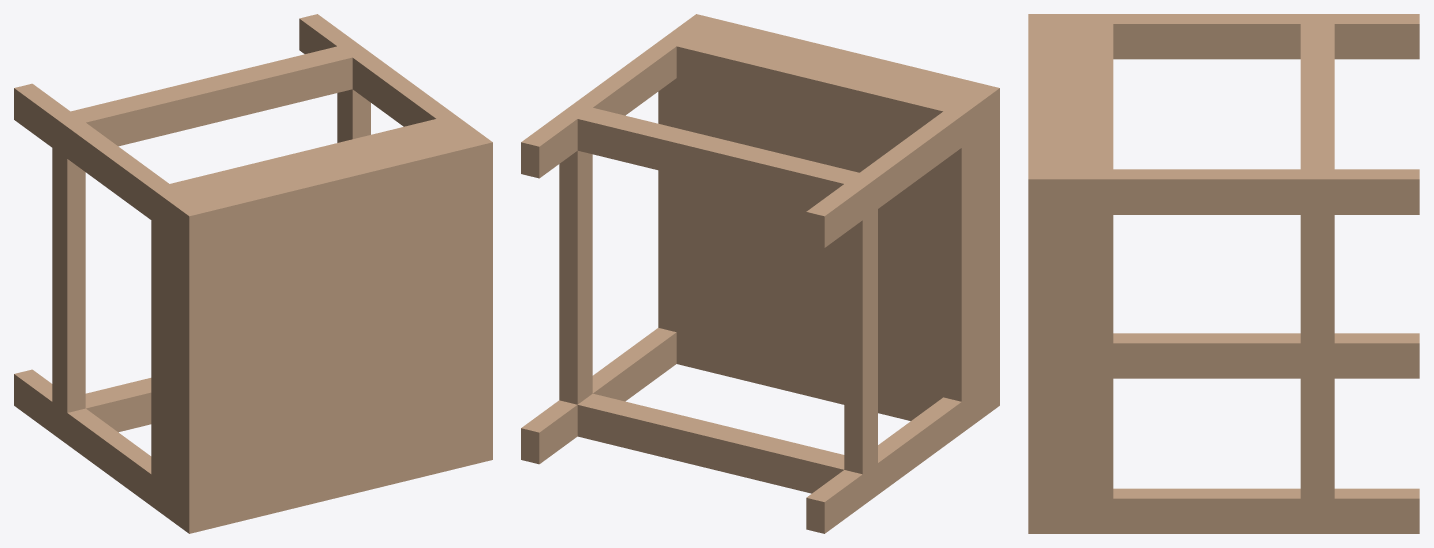
The model's file is coffee-table.glb.
The picture shows the model from 3 angles, left to right: view 1: azimuth 30°, elevation 25°; view 2: azimuth 150°, elevation 25°; view 3: azimuth 270°, elevation 25°; orthographic projection. The views are drawn at different scales.
Visible parts, largest first — view 1: furniture/coffee-table; view 2: furniture/coffee-table; view 3: furniture/coffee-table.
Part boxes in pixels (box(x1,y1,x2,y2)): furniture/coffee-table: box(14, 14, 492, 533); furniture/coffee-table: box(521, 14, 999, 533); furniture/coffee-table: box(1028, 14, 1419, 533).
Size of the model in its own units: 1 by 1 by 1.
